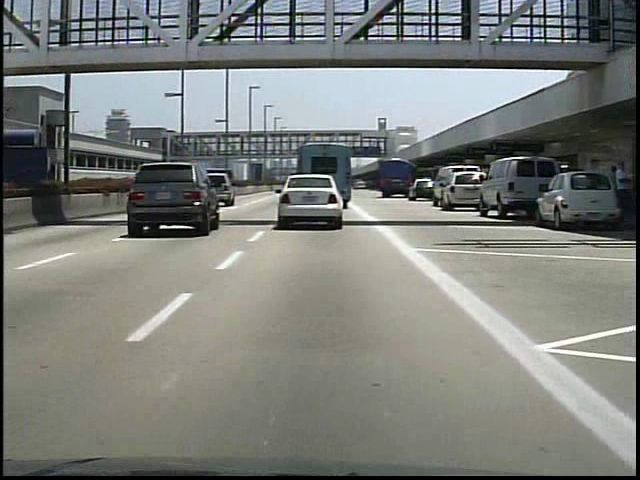person: (609, 153, 635, 230)
